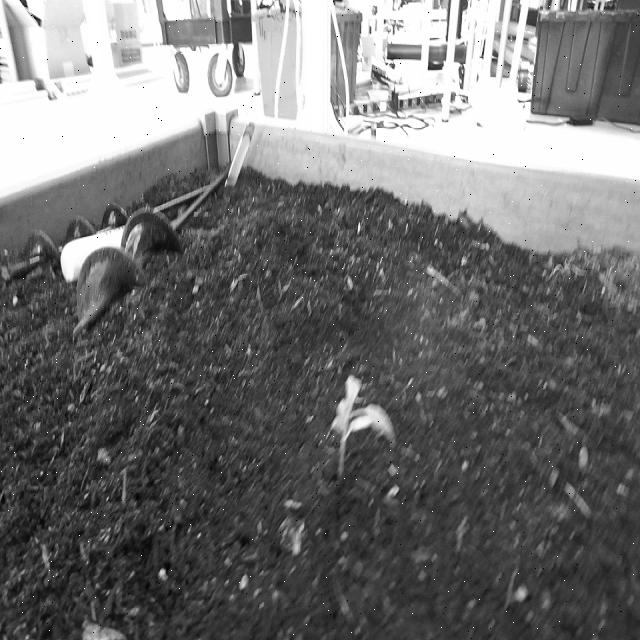Healthy: (329, 370, 398, 482)
